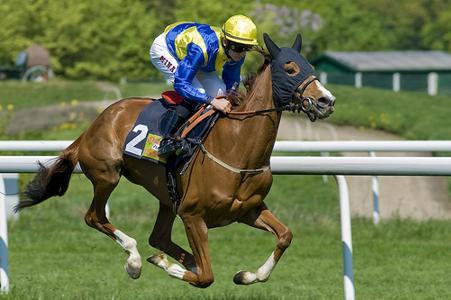person: (149, 14, 261, 155)
